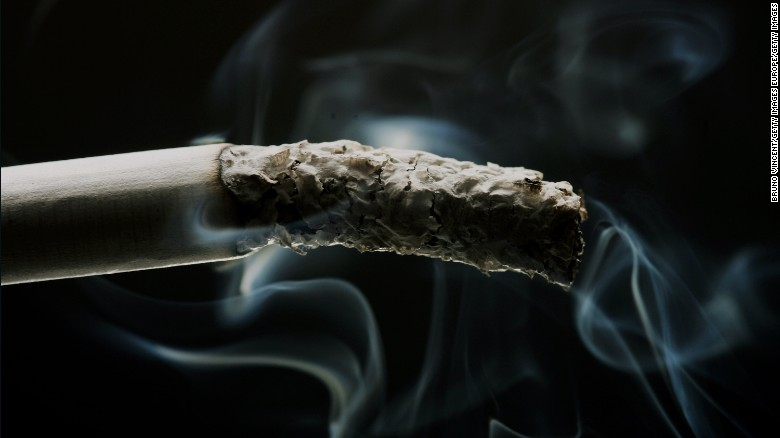cigarette: (1, 136, 586, 310)
